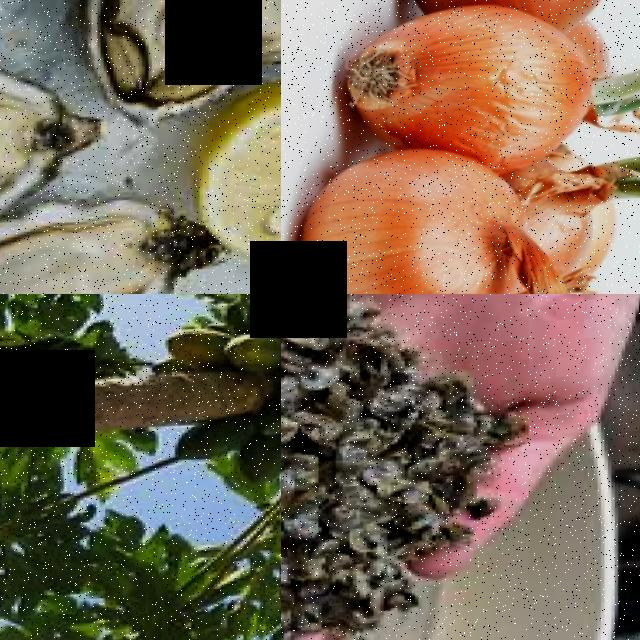lemon: (188, 79, 281, 288)
onion: (331, 0, 598, 175), (284, 138, 528, 294)
oysters: (77, 0, 281, 115), (0, 193, 179, 294), (0, 37, 80, 254)
pawpaw: (166, 421, 250, 473), (160, 330, 229, 379), (218, 334, 281, 381)
